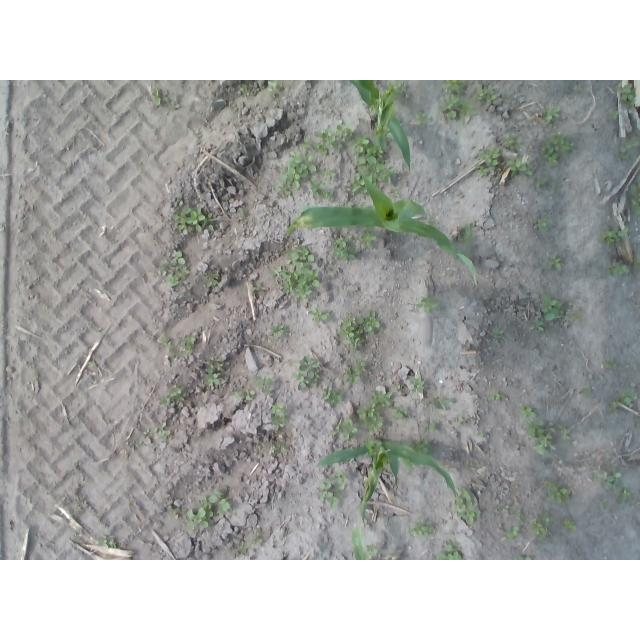Maize: (289, 173, 479, 288), (315, 440, 457, 529), (348, 81, 412, 172), (352, 528, 373, 561)
Weeds: (352, 137, 395, 195), (357, 391, 411, 434), (269, 264, 319, 300), (340, 310, 380, 350), (280, 154, 316, 194), (155, 250, 189, 287), (302, 127, 339, 155), (440, 94, 475, 121), (292, 356, 320, 389), (173, 208, 206, 235), (200, 490, 231, 518), (455, 489, 481, 522), (285, 248, 316, 269), (236, 532, 262, 557), (334, 235, 359, 260), (541, 295, 564, 321), (437, 538, 464, 560), (532, 513, 553, 541), (547, 482, 573, 504), (507, 159, 534, 178), (187, 508, 209, 530), (333, 419, 357, 439), (205, 362, 225, 386), (599, 472, 622, 492), (411, 519, 434, 538), (322, 386, 342, 407), (425, 395, 453, 409), (457, 223, 476, 243), (502, 132, 522, 150), (255, 375, 273, 395), (417, 298, 439, 314), (151, 90, 171, 107), (545, 253, 565, 270), (160, 336, 177, 356), (332, 470, 349, 490), (542, 149, 559, 168), (528, 420, 545, 439), (167, 388, 186, 405), (411, 441, 434, 455), (480, 148, 500, 164), (180, 336, 196, 356), (619, 391, 637, 408), (549, 134, 568, 150), (336, 123, 352, 141), (443, 80, 467, 92), (269, 443, 289, 457), (631, 182, 640, 213), (617, 83, 632, 101), (308, 310, 328, 323), (319, 482, 332, 502), (204, 272, 220, 288), (154, 423, 170, 439), (416, 111, 433, 126), (479, 89, 496, 104), (612, 261, 629, 276), (309, 178, 324, 194), (362, 230, 377, 246), (268, 417, 288, 429), (412, 376, 425, 394), (270, 325, 288, 338), (520, 405, 537, 418), (270, 404, 287, 417), (537, 217, 551, 232), (546, 106, 558, 123), (617, 226, 629, 242), (601, 230, 617, 242), (514, 509, 527, 523), (505, 526, 519, 539), (488, 393, 505, 403), (346, 370, 359, 383), (619, 489, 631, 503), (563, 518, 577, 530), (491, 328, 505, 339), (601, 359, 616, 369), (100, 540, 116, 549), (476, 165, 489, 176), (425, 423, 438, 434), (558, 425, 568, 439), (536, 176, 547, 188), (367, 544, 377, 556), (570, 310, 579, 323), (330, 495, 338, 509), (355, 359, 366, 369), (610, 401, 621, 411), (322, 170, 334, 179), (158, 396, 170, 405), (252, 283, 265, 291), (395, 83, 405, 93), (268, 81, 277, 92), (333, 489, 344, 498), (233, 392, 244, 401), (516, 554, 532, 560), (239, 207, 248, 217), (246, 390, 255, 400), (323, 191, 334, 199), (599, 499, 607, 510), (172, 507, 180, 518), (634, 256, 640, 269), (629, 95, 636, 106), (562, 144, 571, 152), (536, 322, 544, 331), (628, 141, 639, 147), (171, 102, 179, 110), (240, 83, 248, 91), (579, 389, 589, 395), (613, 111, 620, 119), (392, 189, 398, 197), (144, 430, 153, 435), (503, 505, 509, 512), (622, 151, 627, 159), (552, 185, 557, 193), (89, 361, 95, 367), (360, 203, 368, 207), (460, 416, 465, 422), (480, 432, 485, 437), (468, 467, 476, 470)
